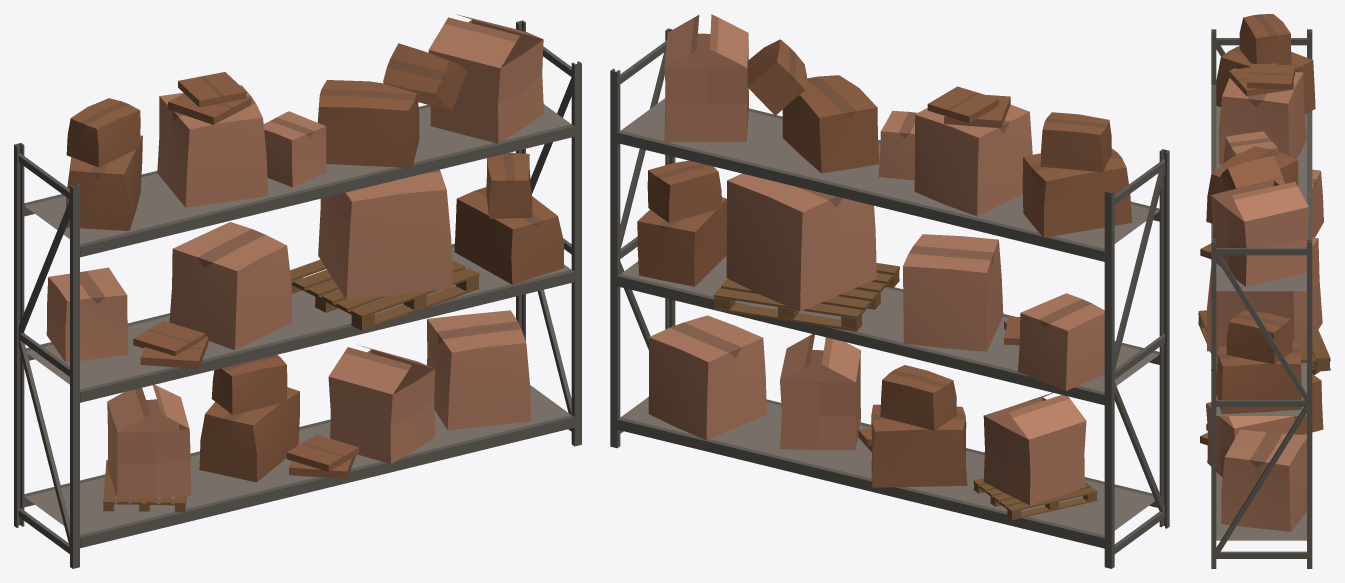
The model's file is SM_Shelf.fbx.
3 renders of one model, left to right at view 1: azimuth 30°, elevation 25°; view 2: azimuth 150°, elevation 25°; view 3: azimuth 270°, elevation 25°, orthographic. The views are drawn at different scales.
Parts seen in each view (by area): view 1: Shelf; view 2: Shelf; view 3: Shelf.
Part boxes in pixels (x1,y1,x2,y2): Shelf: (14,14,581,568); Shelf: (610,14,1169,568); Shelf: (1198,14,1330,568).
Bounding box in the file's own units: 447 × 351 × 117.
